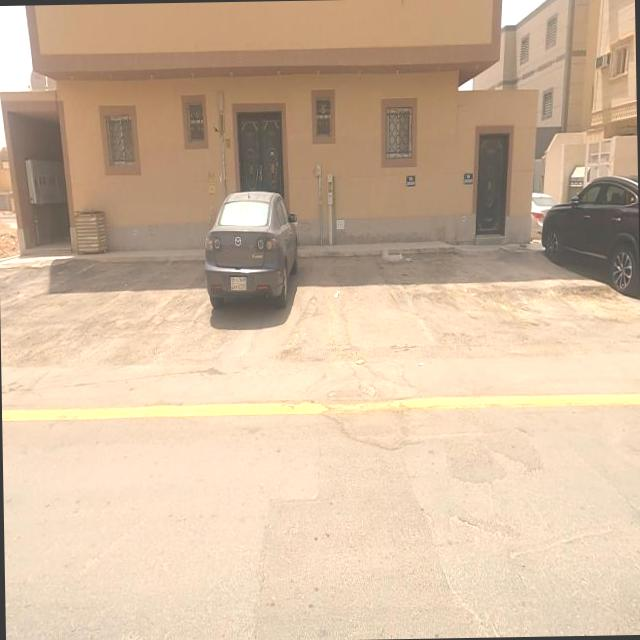debris: (348, 210, 444, 306)
